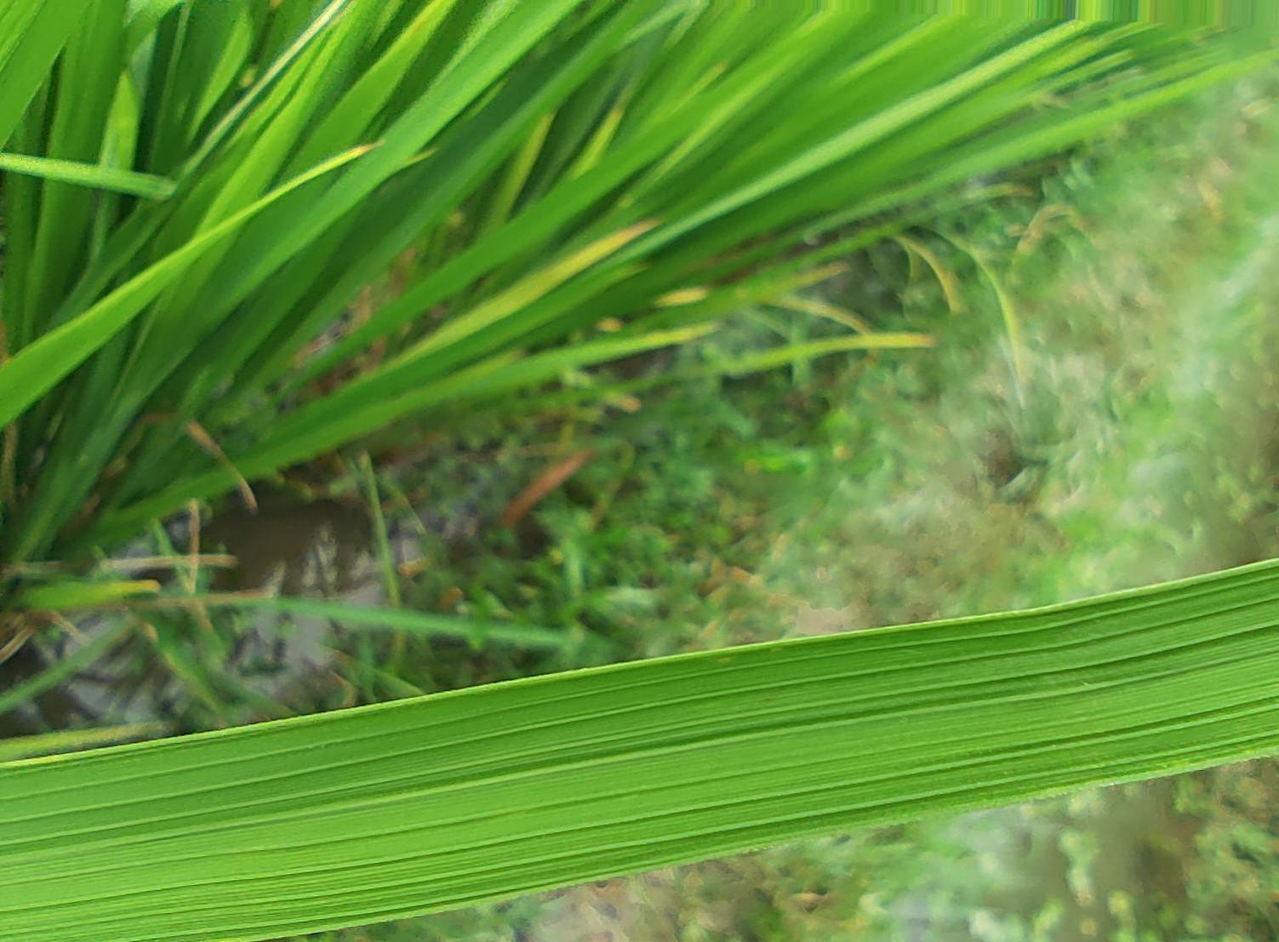Healthy: (0, 560, 1278, 941)
